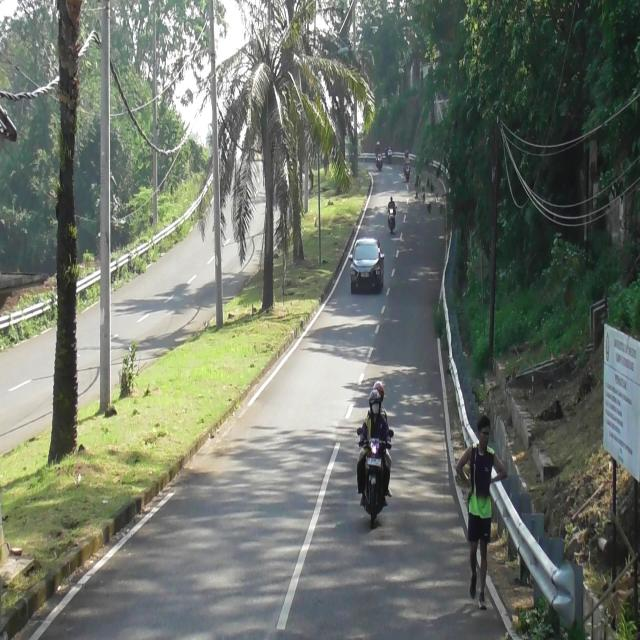motorcycle: (356, 426, 396, 527), (387, 206, 396, 234), (374, 151, 384, 171), (404, 159, 411, 181)
person: (359, 381, 394, 505), (357, 390, 389, 509), (387, 196, 397, 215), (374, 141, 382, 154), (404, 152, 410, 166)
rider_region: (357, 378, 396, 530), (387, 192, 398, 238), (403, 150, 413, 183), (374, 140, 384, 171)
